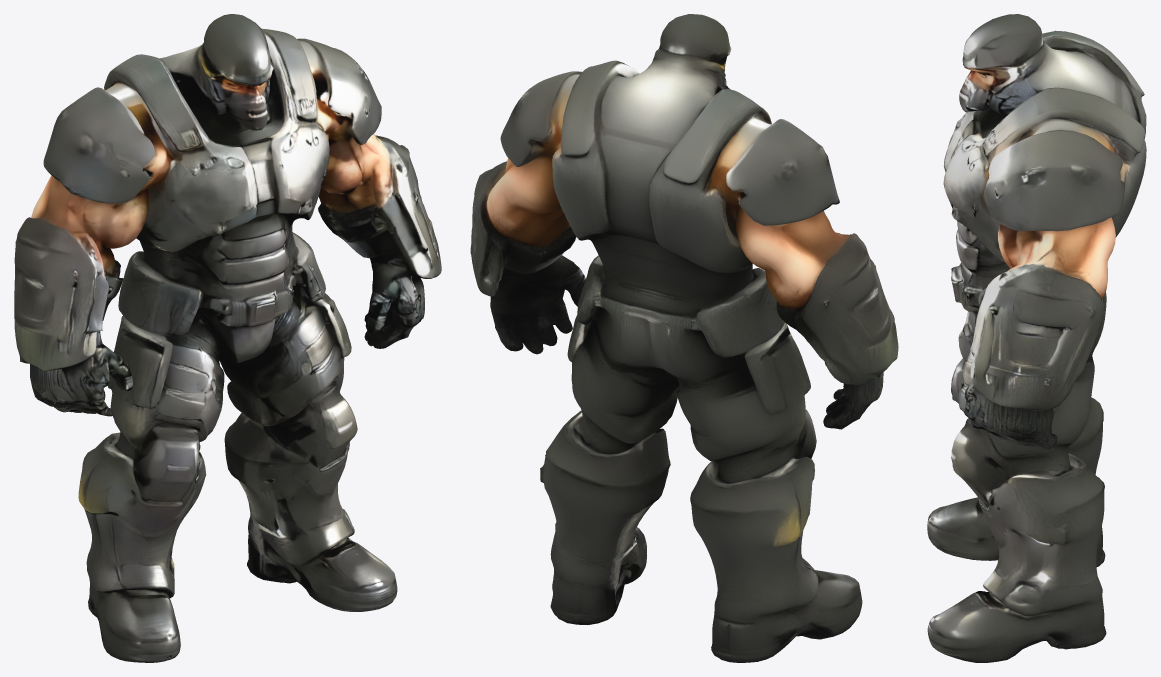
File: bulky.glb
3 views of the same model, side by side, from view 1: azimuth 30°, elevation 25°; view 2: azimuth 150°, elevation 25°; view 3: azimuth 270°, elevation 25° (orthographic).
Visible parts, largest first — view 1: model; view 2: model; view 3: model.
Boxes of the visible parts, box(x1,y1,x2,y2) form: model: box(14, 14, 441, 662); model: box(470, 14, 898, 662); model: box(927, 14, 1146, 662).
Size of the model in its own units: 1.37 by 1.9 by 0.6464.
Materials: 1 (1 with a texture image).
